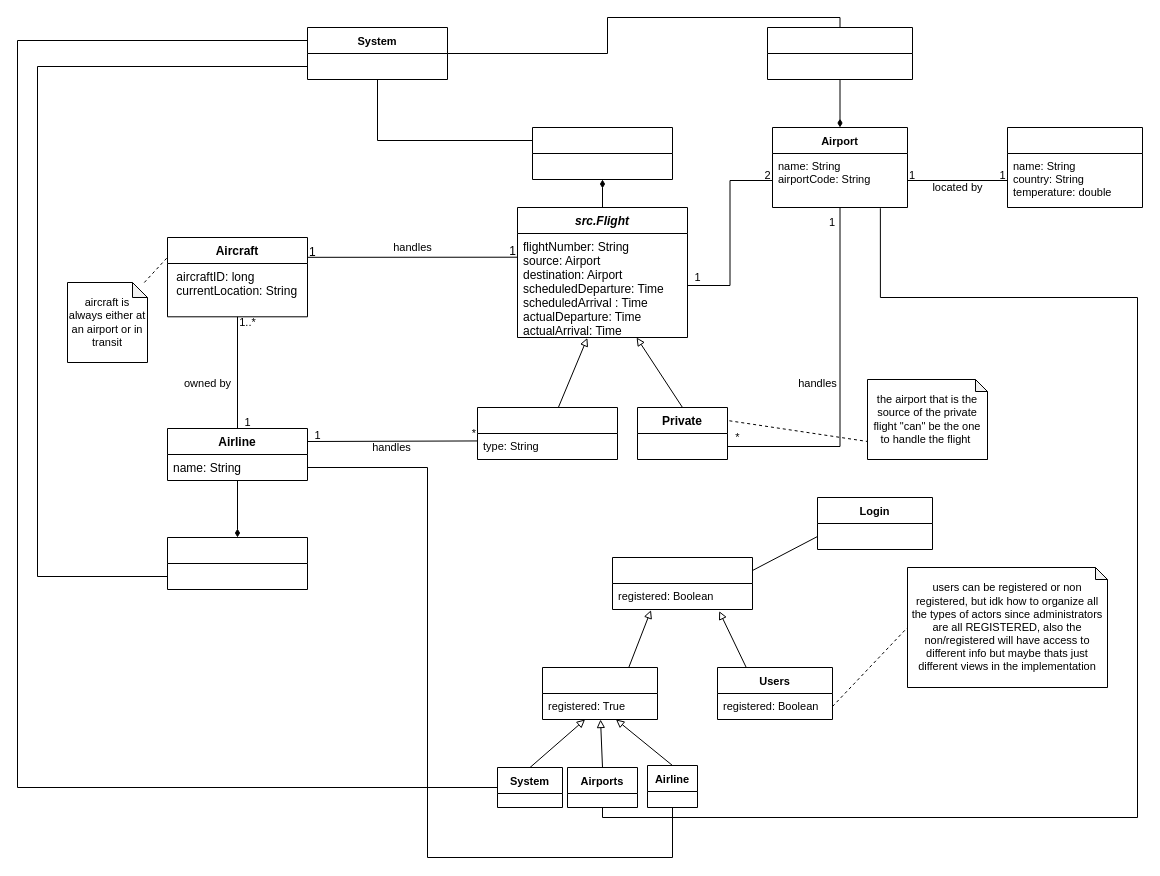
Some shapes in this 1160 by 876 pixel diagram are drawn without their labels. Here are the shapes that lost their labels. From the top down, the box of each, then its label:
(766, 26, 912, 80): AirportsRecord
(532, 126, 672, 180): FlightsRecord
(1006, 126, 1142, 208): City
(476, 406, 618, 460): Non-Private
(166, 536, 308, 590): AirlinesRecord
(612, 556, 752, 610): Actors
(542, 666, 658, 720): Administrators
